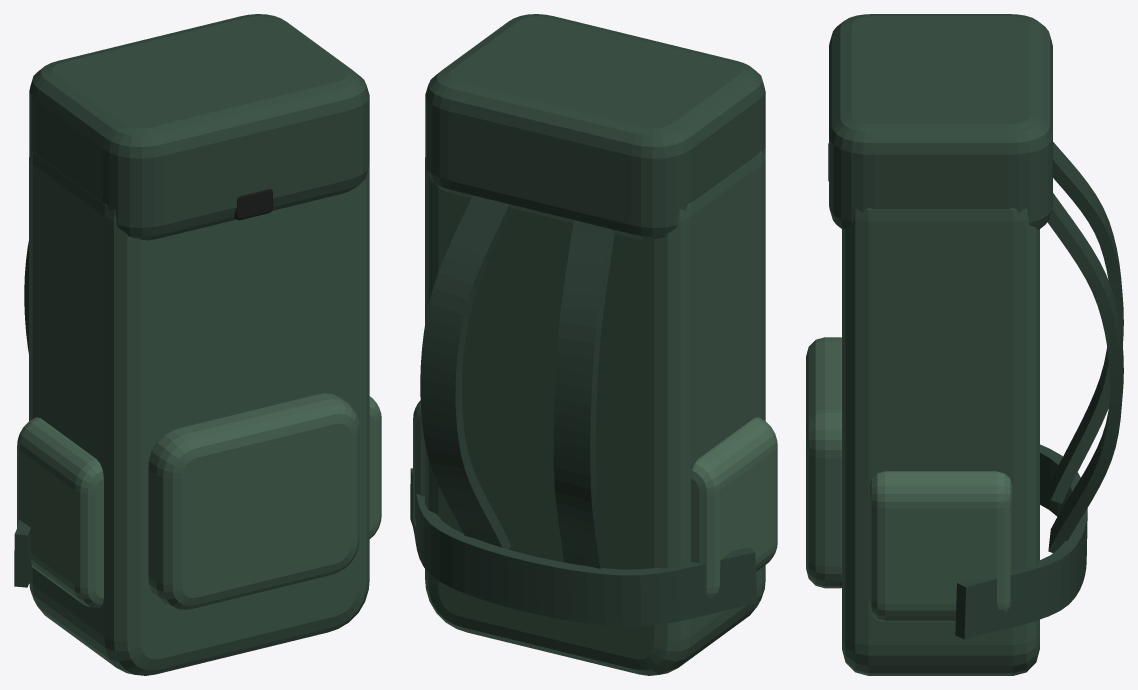
The model's file is trekker-55.glb.
The picture shows the model from 3 angles, left to right: view 1: azimuth 30°, elevation 25°; view 2: azimuth 150°, elevation 25°; view 3: azimuth 270°, elevation 25°; orthographic projection.
Visible parts, largest first — view 1: body, lid, front-pocket, side-pocket-l, side-pocket-r, hip-belt, lid-buckle; view 2: body, lid, hip-belt, shoulder-strap-r, shoulder-strap-l, side-pocket-l, side-pocket-r; view 3: body, lid, side-pocket-r, front-pocket, hip-belt, shoulder-strap-r, shoulder-strap-l.
Boxes of the visible parts, box(x1,y1,x2,y2) form: body: box(29, 148, 369, 675); lid: box(29, 14, 369, 240); front-pocket: box(148, 393, 359, 609); side-pocket-l: box(17, 417, 103, 607); side-pocket-r: box(369, 396, 381, 538); hip-belt: box(14, 520, 32, 587); lid-buckle: box(234, 189, 273, 220); body: box(425, 148, 765, 675); lid: box(425, 14, 765, 240); hip-belt: box(410, 468, 757, 626); shoulder-strap-r: box(420, 195, 512, 549); shoulder-strap-l: box(553, 220, 614, 568); side-pocket-l: box(691, 417, 777, 598); side-pocket-r: box(413, 400, 424, 526); body: box(842, 208, 1039, 675); lid: box(829, 14, 1052, 229); side-pocket-r: box(869, 471, 1012, 622); front-pocket: box(806, 337, 841, 588); hip-belt: box(955, 444, 1087, 639); shoulder-strap-r: box(1047, 193, 1123, 552); shoulder-strap-l: box(1048, 142, 1123, 503).
Size of the model in its own units: 0.5302 by 0.8076 by 0.4172.
